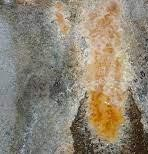Corrosion: (81, 1, 129, 143), (70, 87, 148, 154), (52, 1, 71, 37)
